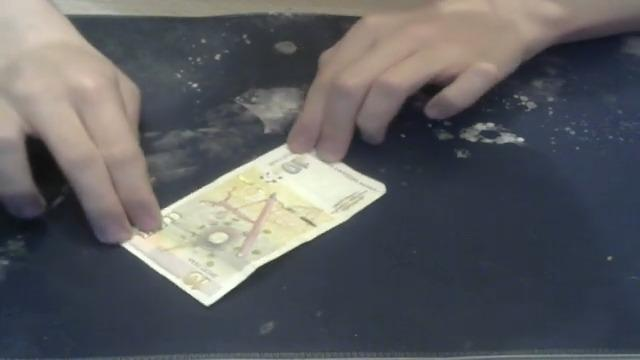10leva: (171, 264, 229, 300), (264, 152, 307, 187), (186, 257, 217, 292)
